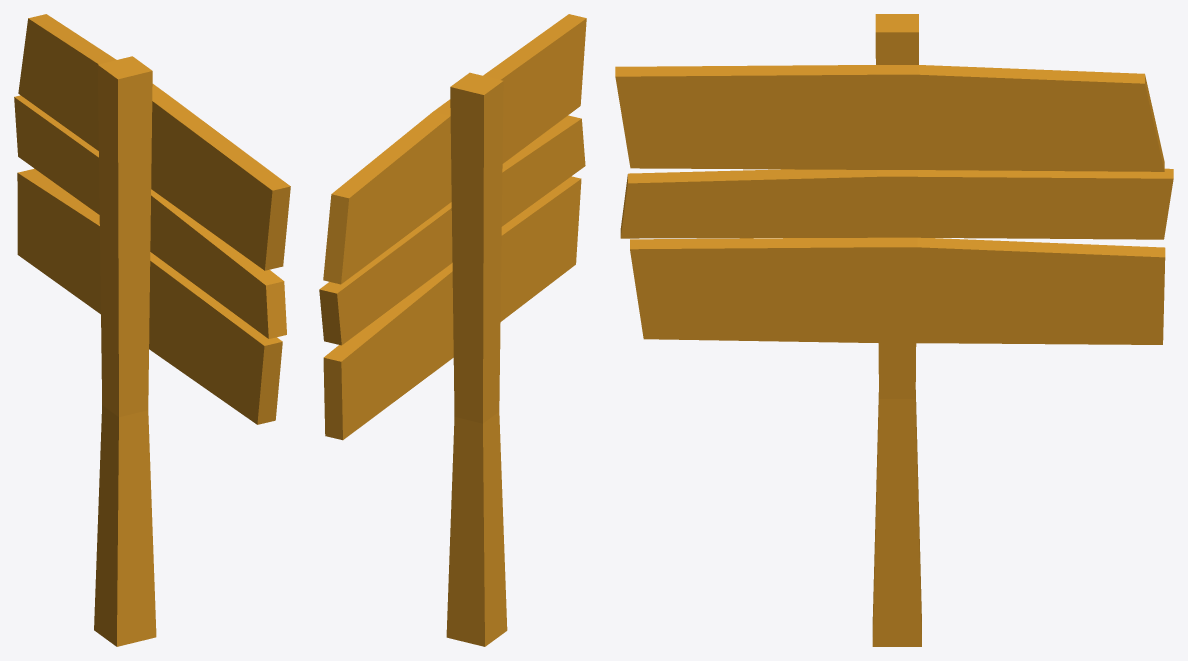
Rendered from Wood_Sign_Post.glb.
The picture shows the model from 3 angles, left to right: view 1: azimuth 30°, elevation 25°; view 2: azimuth 150°, elevation 25°; view 3: azimuth 270°, elevation 25°; orthographic projection. The views are drawn at different scales.
Visible parts, largest first — view 1: SignPost; view 2: SignPost; view 3: SignPost.
Boxes of the visible parts, bbox=[...] form: SignPost: bbox=[14, 14, 290, 646]; SignPost: bbox=[319, 14, 586, 646]; SignPost: bbox=[615, 14, 1173, 646].
Size of the model in its own units: 0.5112 by 5 by 4.12.
